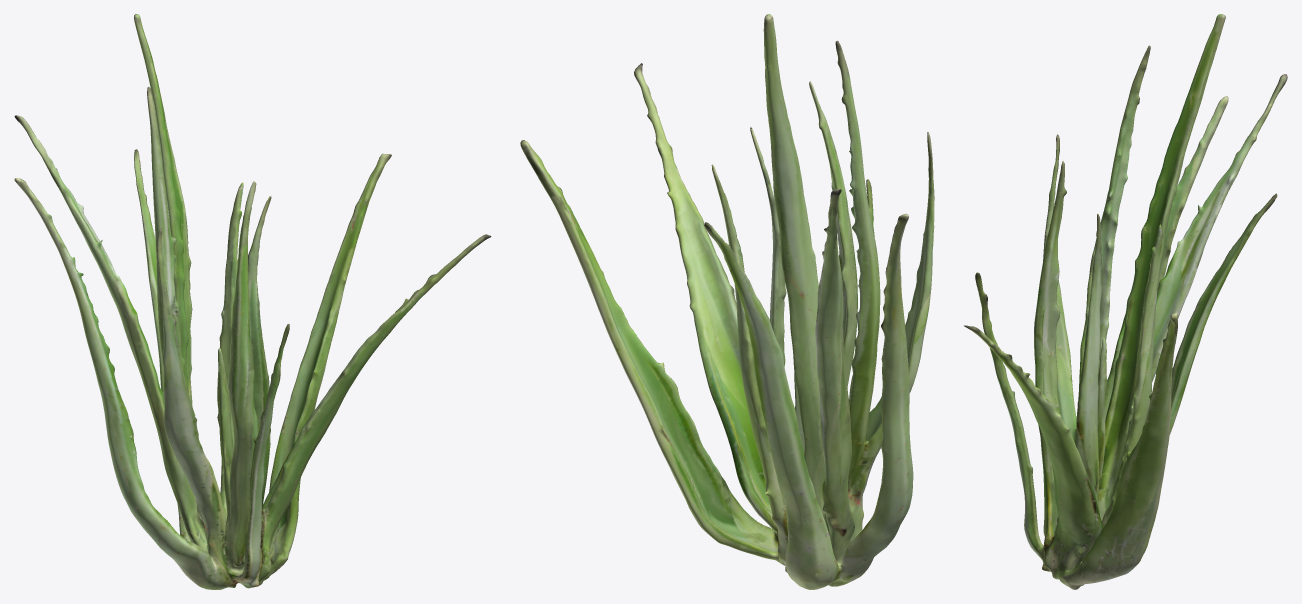
The model's file is aloevera.glb.
The picture shows the model from 3 angles, left to right: view 1: azimuth 30°, elevation 25°; view 2: azimuth 150°, elevation 25°; view 3: azimuth 270°, elevation 25°; orthographic projection. The views are drawn at different scales.
Parts seen in each view (by area): view 1: Mesh_0; view 2: Mesh_0; view 3: Mesh_0.
Boxes of the visible parts, x1=… form: Mesh_0: x1=14, y1=14, x2=491, y2=589; Mesh_0: x1=520, y1=14, x2=934, y2=589; Mesh_0: x1=964, y1=14, x2=1287, y2=589.
Size of the model in its own units: 1.39 by 2 by 1.07.
1 material, 1 textured.
